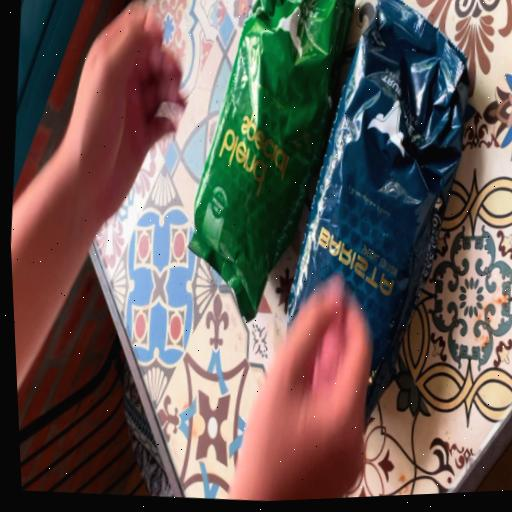cafe_hat: (288, 0, 469, 412), (189, 0, 355, 320)
cafe_xay: (189, 0, 355, 320)
